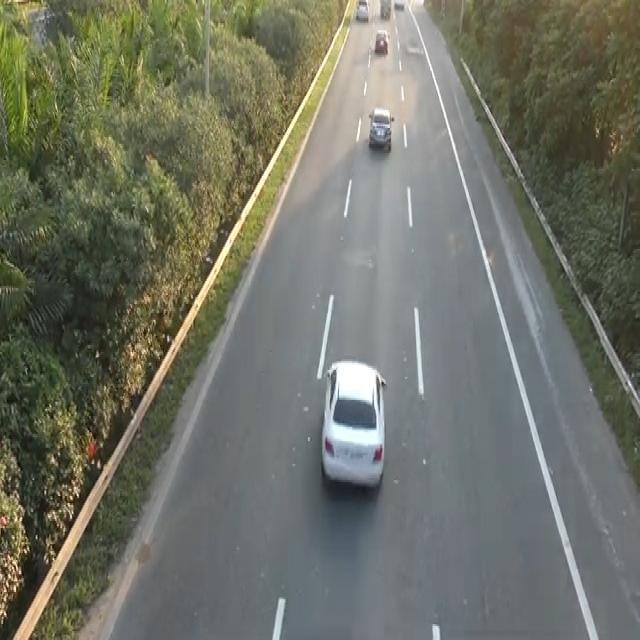bus: (317, 352, 389, 492), (366, 103, 397, 158)
